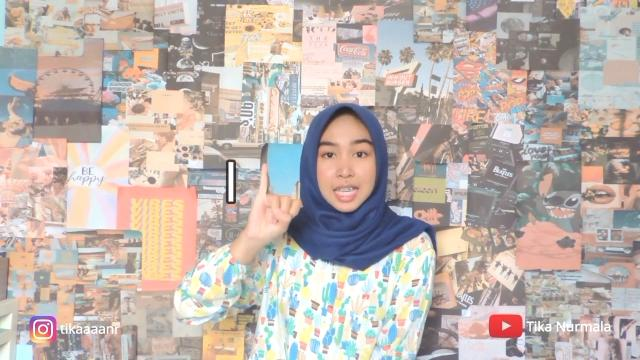I: (248, 160, 300, 244)
